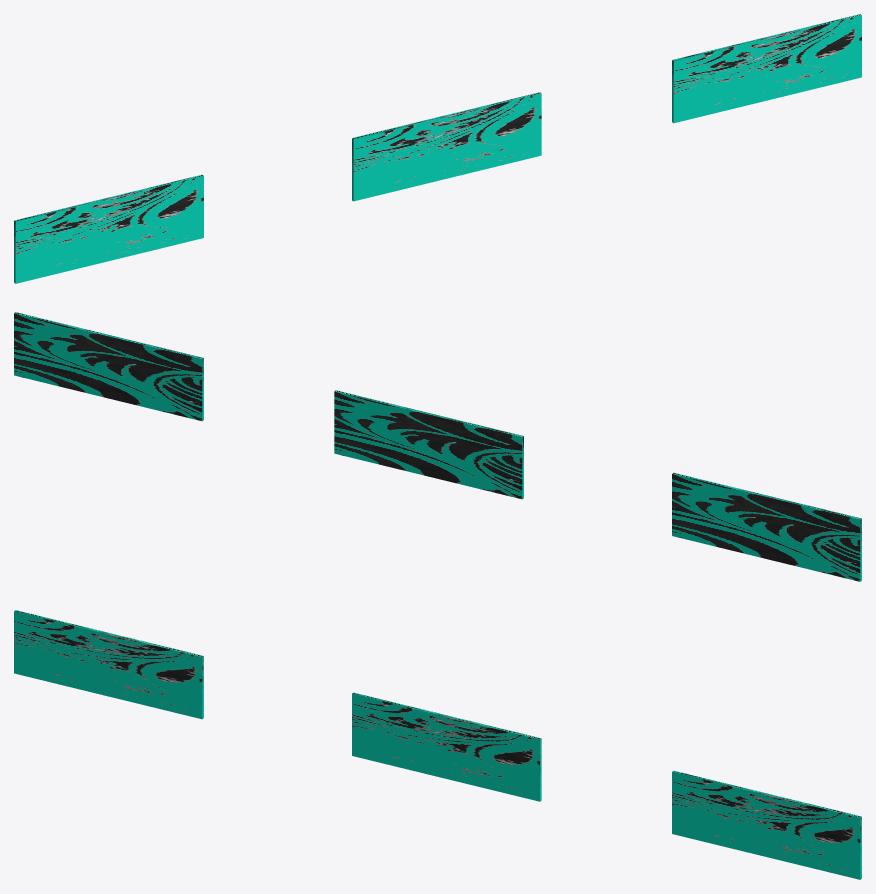
The model's file is cpcristal.obj.
The picture shows the model from 3 angles, top to bottom: view 1: azimuth 30°, elevation 25°; view 2: azimuth 150°, elevation 25°; view 3: azimuth 330°, elevation 25°; orthographic projection.
Visible parts, largest first — view 1: pCube4; view 2: pCube4; view 3: pCube4.
Boxes of the visible parts, x1,y1,x2,y2 form: pCube4: [14, 14, 861, 283]; pCube4: [14, 312, 861, 581]; pCube4: [14, 610, 861, 879].
Size of the model in its own units: 2.02 by 0.1417 by 0.00701.
Materials: 1 (1 with a texture image).
